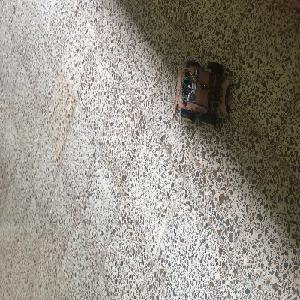Robot: (176, 60, 230, 125)
